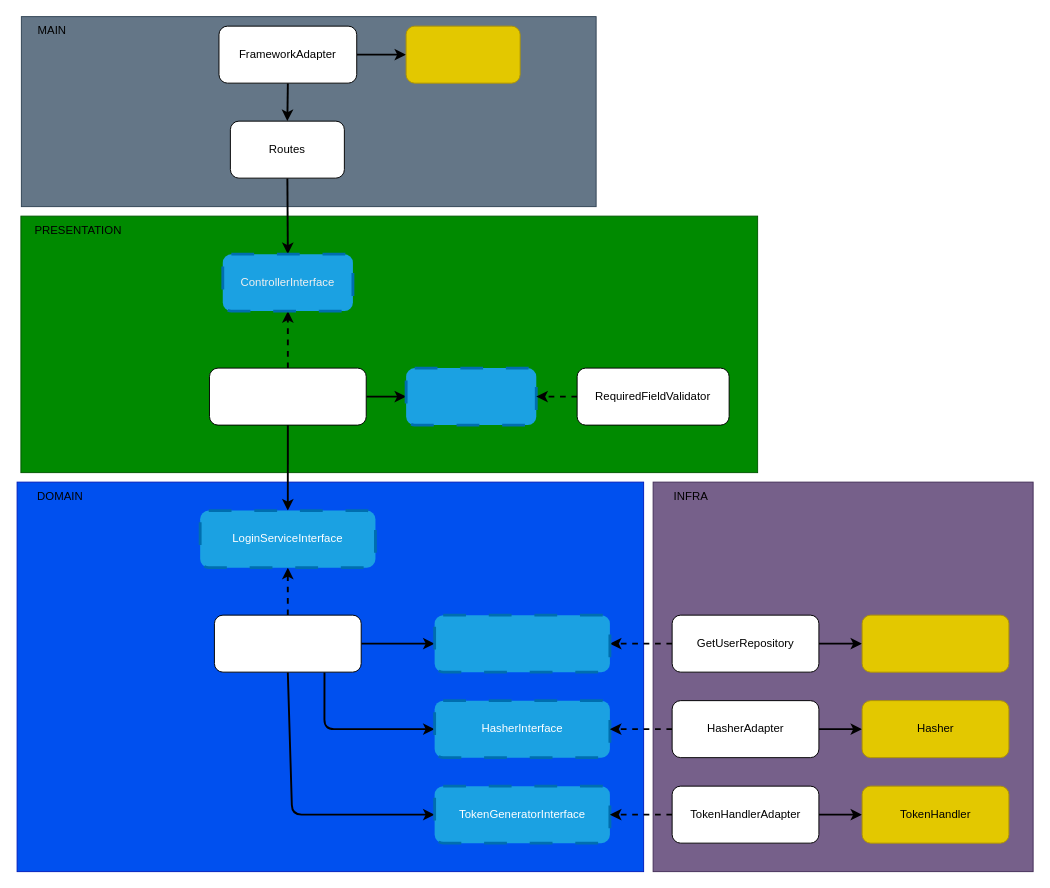
Image size: 1050x888. Some labels were removed from this diagram. The shapes that lost their labels are listed below. From the top down, each one's centre as x and y in pixels, then its label:
At pixel 462 54: "Framework".
At pixel 287 396: "LoginController".
At pixel 470 396: "ValidatorInterface".
At pixel 287 643: "LoginService".
At pixel 522 643: "GetUserRepositoryInterface".
At pixel 935 643: "Database".
